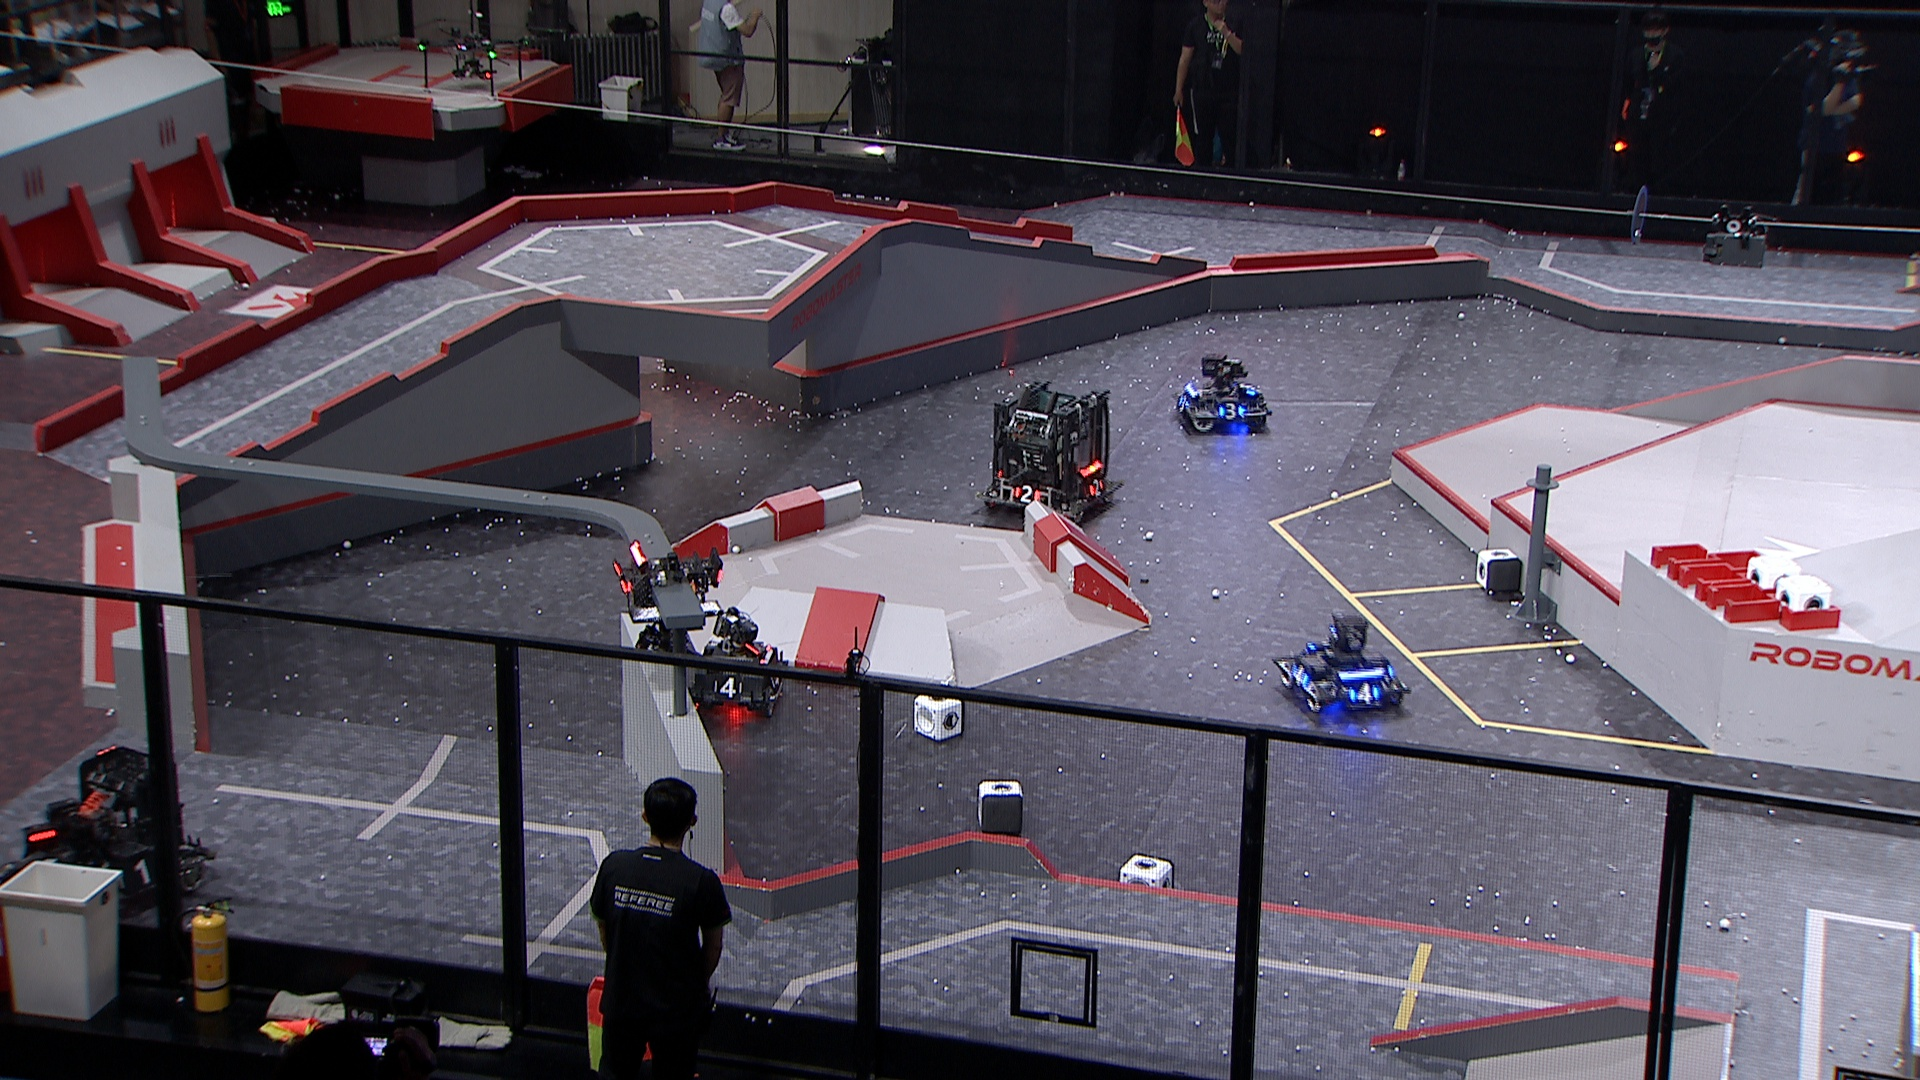armor: (116, 858, 156, 891), (609, 559, 636, 597), (713, 675, 745, 699), (1349, 683, 1382, 704), (1011, 483, 1040, 506), (1215, 404, 1247, 419), (1291, 665, 1313, 687), (1087, 475, 1106, 498), (1238, 380, 1259, 400), (1174, 394, 1192, 417)
car: (977, 380, 1125, 524), (1278, 613, 1415, 717), (686, 600, 787, 721), (1174, 353, 1273, 436)
watcher: (609, 541, 723, 655)
